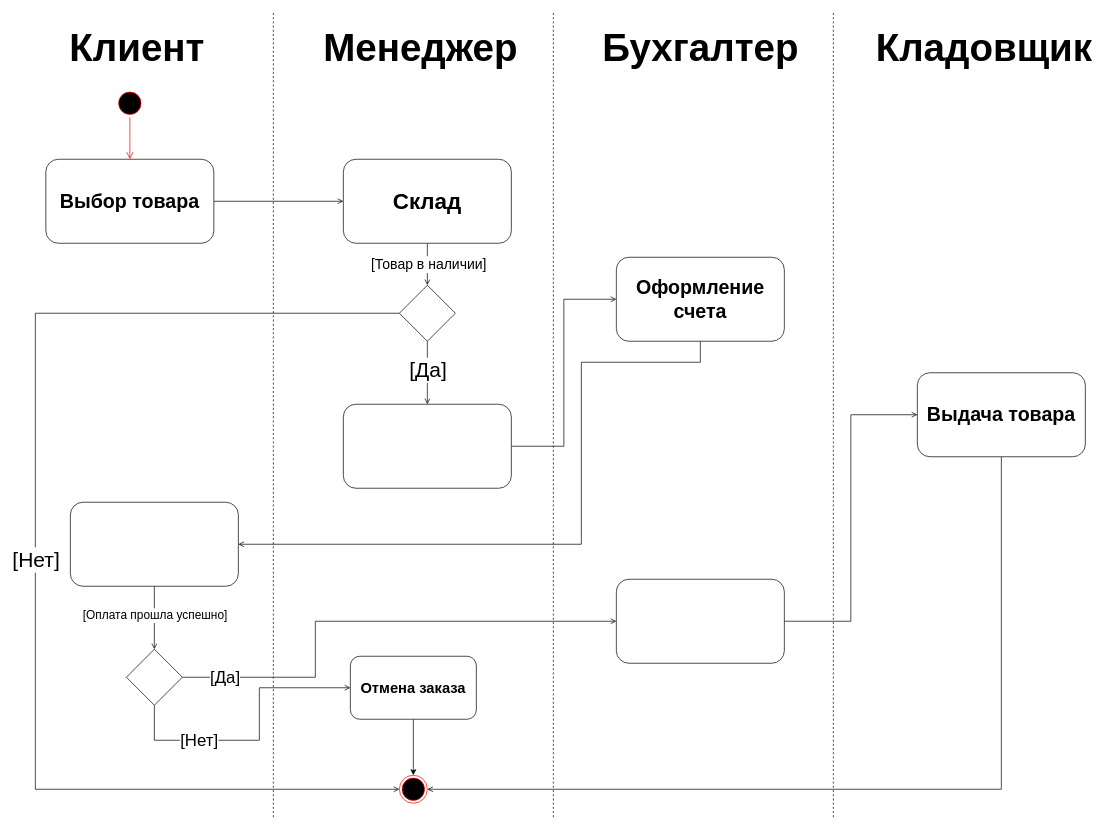
Image size: 1112x830. Some labels were removed from this diagram. The centre of each missing label's shape, as x and y in pixels:
"Накладная" goes at (x=700, y=621).
"Оплата" goes at (x=154, y=544).
"Оформление заказа" goes at (x=427, y=446).
